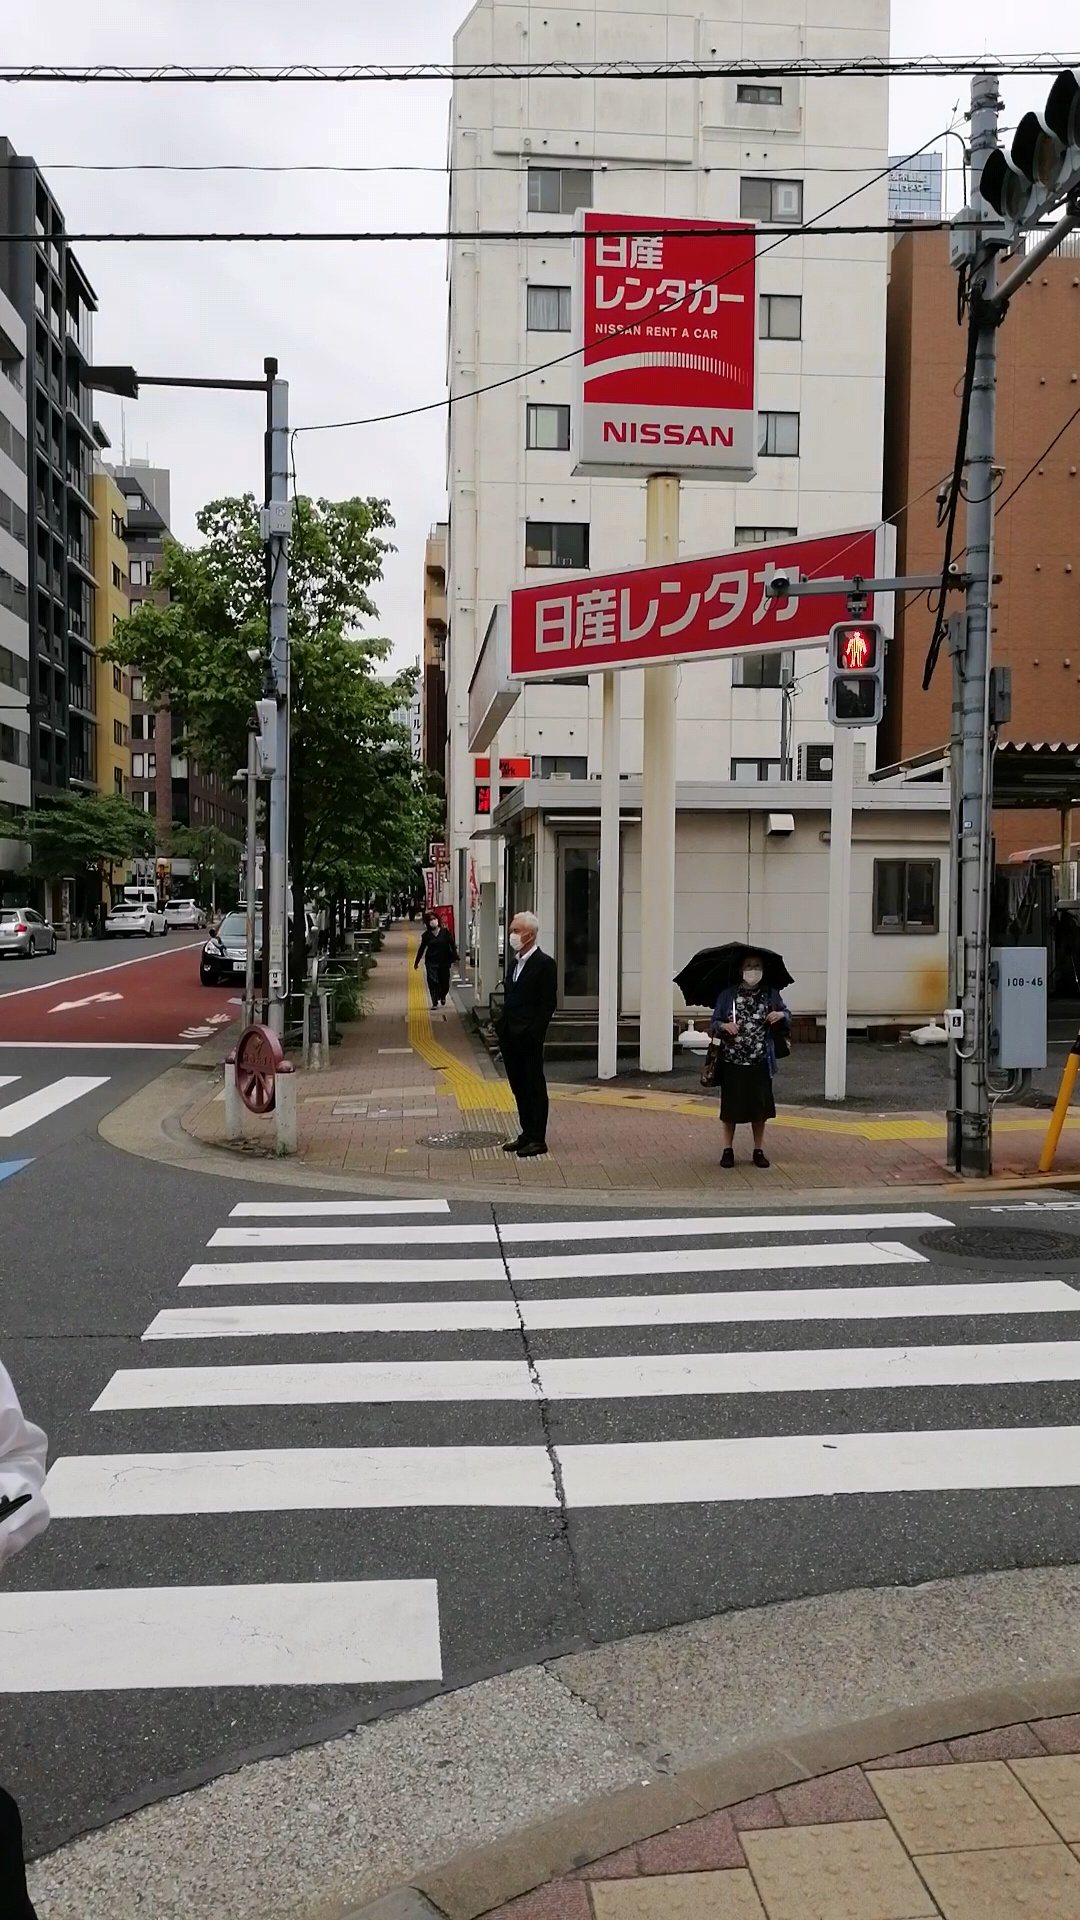red: (829, 618, 885, 729)
